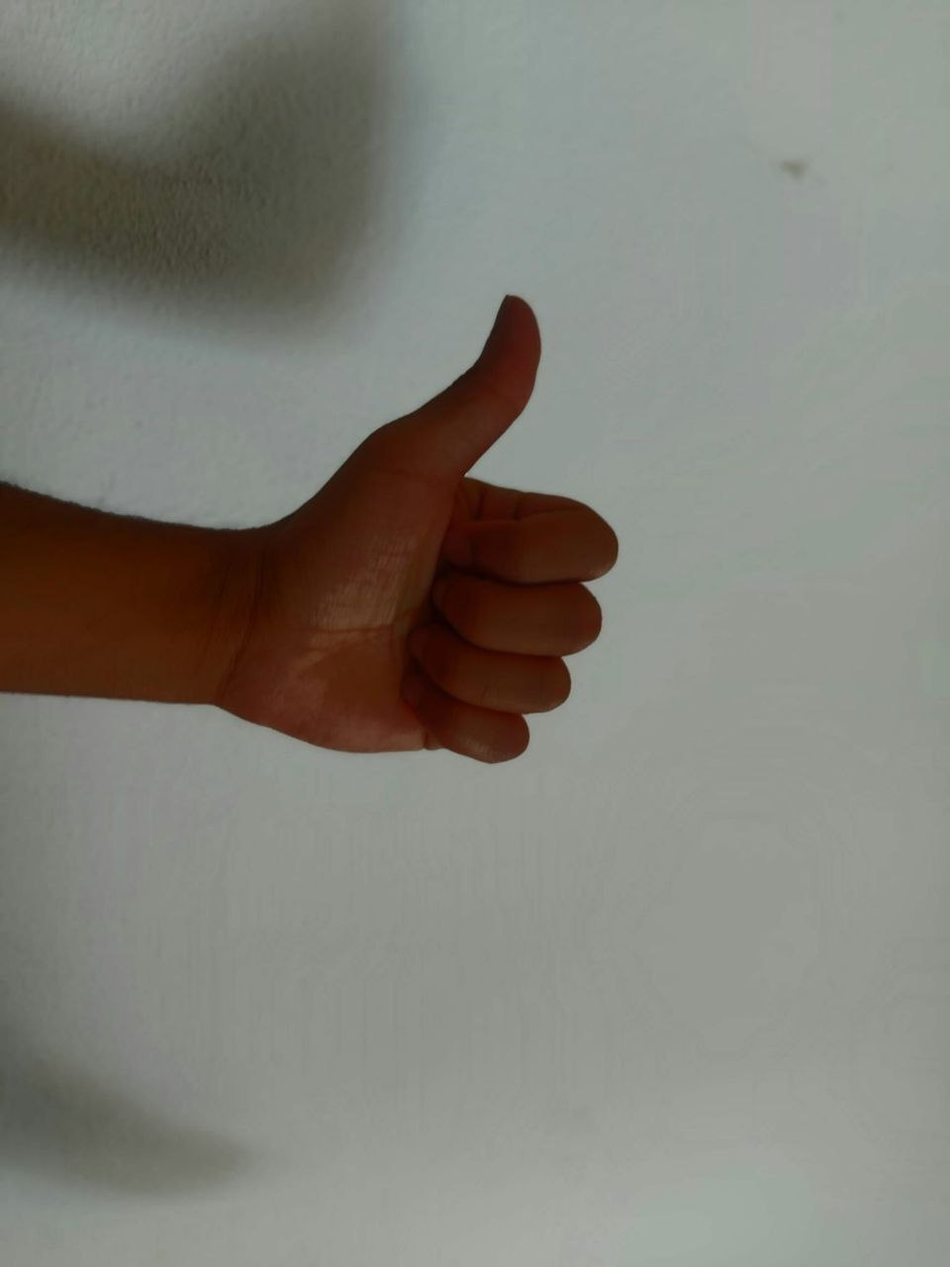Thumbs up: (208, 215, 683, 908)
